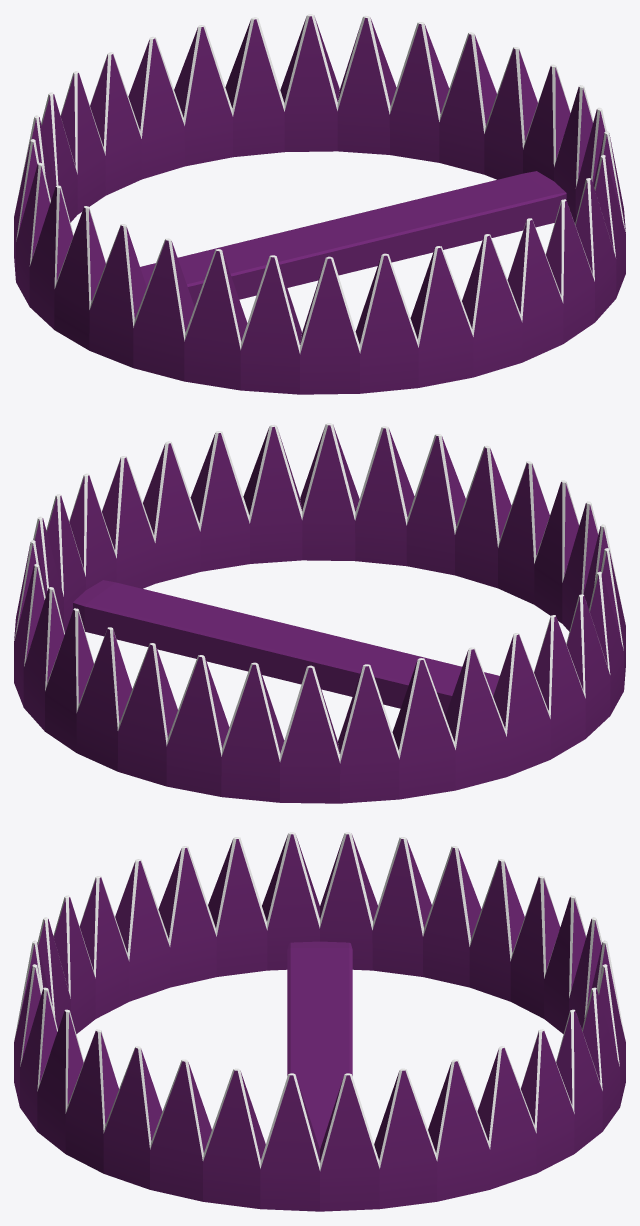
Rendered from armadilha.fbx.
The picture shows the model from 3 angles, top to bottom: view 1: azimuth 30°, elevation 25°; view 2: azimuth 150°, elevation 25°; view 3: azimuth 270°, elevation 25°; orthographic projection.
Parts seen in each view (by area): view 1: traps; view 2: traps; view 3: traps.
Part boxes in pixels (x1,y1,x2,y2): traps: (14, 14, 625, 394); traps: (14, 423, 625, 803); traps: (14, 832, 625, 1211).
Bounding box in the file's own units: 35.91 × 8.35 × 35.91.
